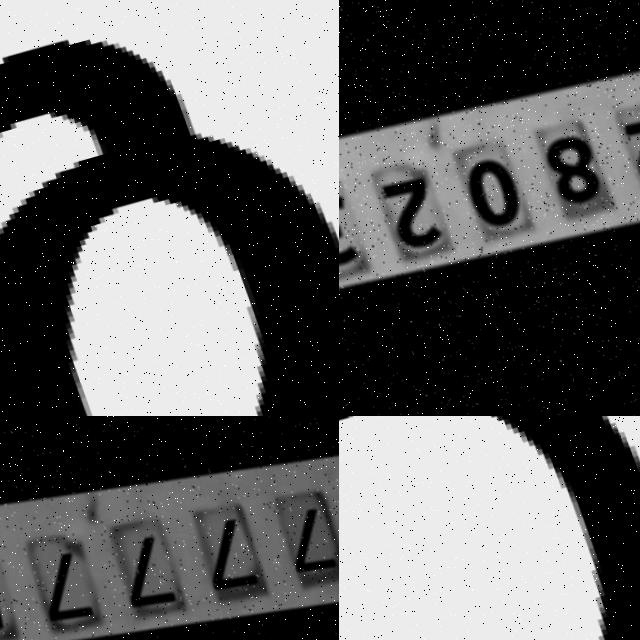0: (426, 127, 555, 260)
2: (347, 147, 475, 282), (592, 88, 640, 213)
3: (339, 165, 389, 299)
5: (0, 534, 34, 640)
7: (166, 488, 286, 617), (86, 507, 202, 632), (4, 522, 120, 640), (254, 480, 339, 596)
8: (505, 100, 636, 239)
C: (487, 416, 640, 640)
Q: (0, 0, 339, 416)
